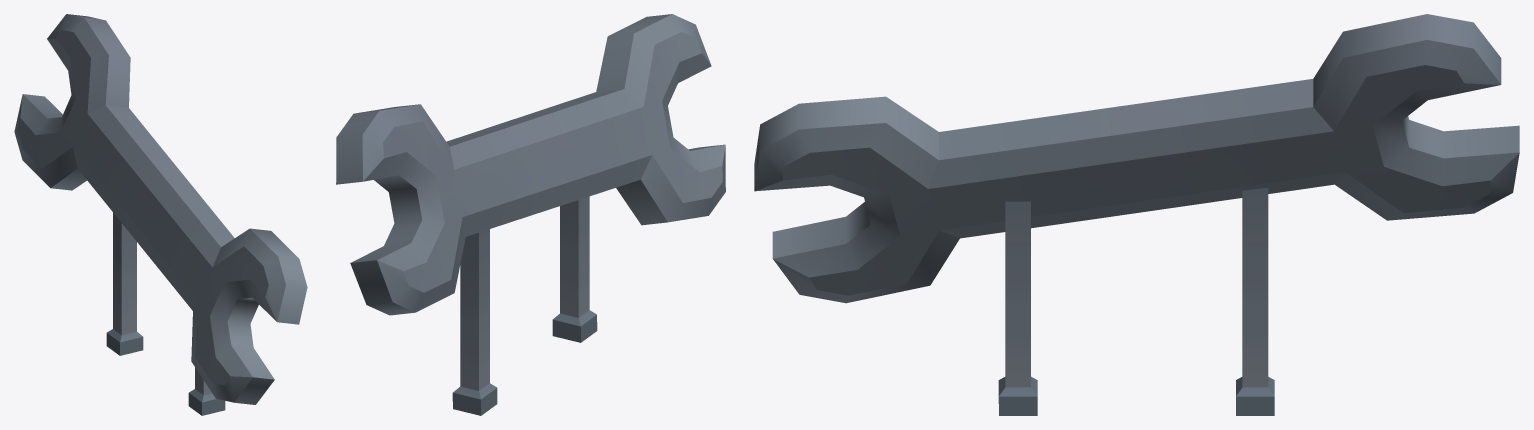
File: FlatWrenchSign_1_B.fbx
3 renders of one model, left to right at view 1: azimuth 30°, elevation 25°; view 2: azimuth 150°, elevation 25°; view 3: azimuth 270°, elevation 25°, orthographic. The views are drawn at different scales.
Visible parts, largest first — view 1: FlatWrenchSign_1_B; view 2: FlatWrenchSign_1_B; view 3: FlatWrenchSign_1_B.
Part boxes in pixels (<box>): FlatWrenchSign_1_B: <box>14,14,307,415</box>; FlatWrenchSign_1_B: <box>336,14,725,415</box>; FlatWrenchSign_1_B: <box>754,14,1519,415</box>.
Size of the model in its own units: 85.11 by 237 by 403.
